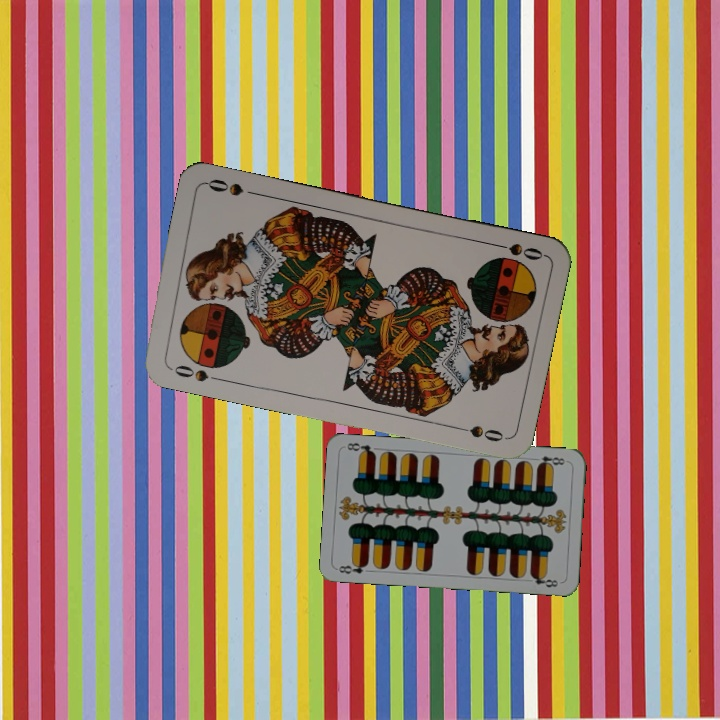E8: (530, 452, 570, 470), (334, 558, 370, 577)
SO: (487, 238, 546, 263), (164, 361, 211, 384)
